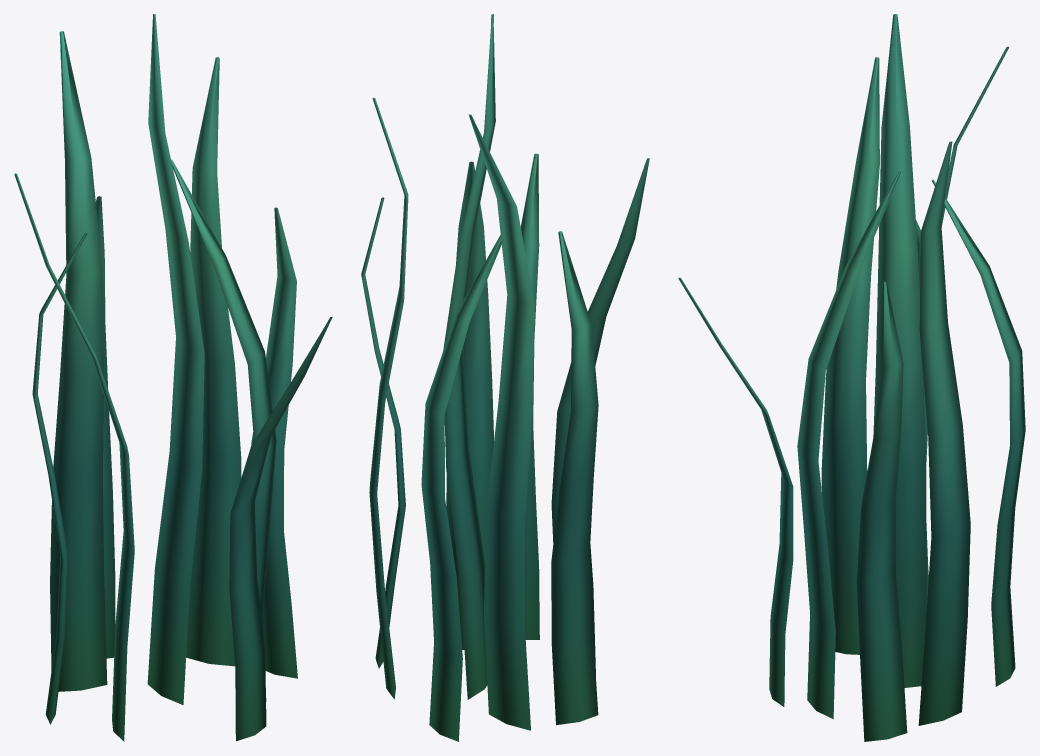
File: seagrass.glb
3 views of the same model, side by side, from view 1: azimuth 30°, elevation 25°; view 2: azimuth 150°, elevation 25°; view 3: azimuth 270°, elevation 25° (orthographic). The views are drawn at different scales.
Parts seen in each view (by area): view 1: SeagrassCluster; view 2: SeagrassCluster; view 3: SeagrassCluster.
Boxes of the visible parts, <box> form: SeagrassCluster: <box>14,14,332,741</box>; SeagrassCluster: <box>361,14,649,741</box>; SeagrassCluster: <box>678,14,1025,741</box>.
Bounding box in the file's own units: 0.5904 × 1.35 × 0.6378.
